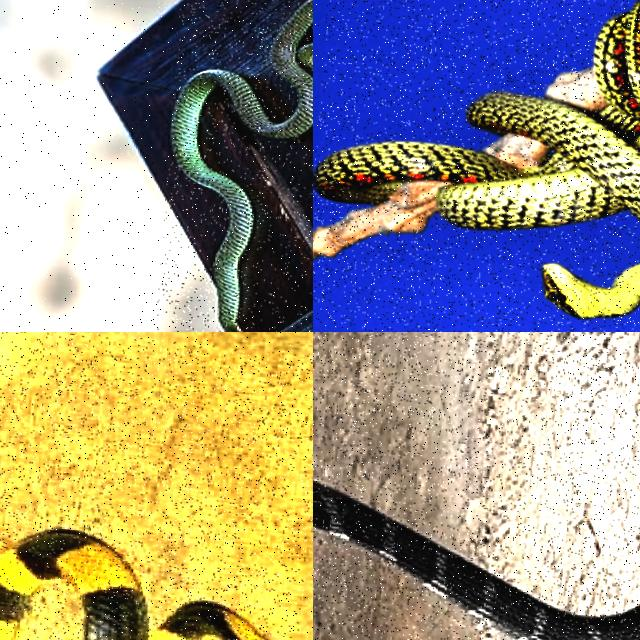Bungarus fasciatus: (0, 530, 147, 639)
Chrysopelea ornata: (314, 2, 639, 229), (171, 0, 312, 331)
Ophiophagus hannah: (313, 482, 639, 639)
snake: (314, 2, 639, 229), (313, 482, 639, 639), (171, 0, 312, 331), (0, 530, 147, 639)
